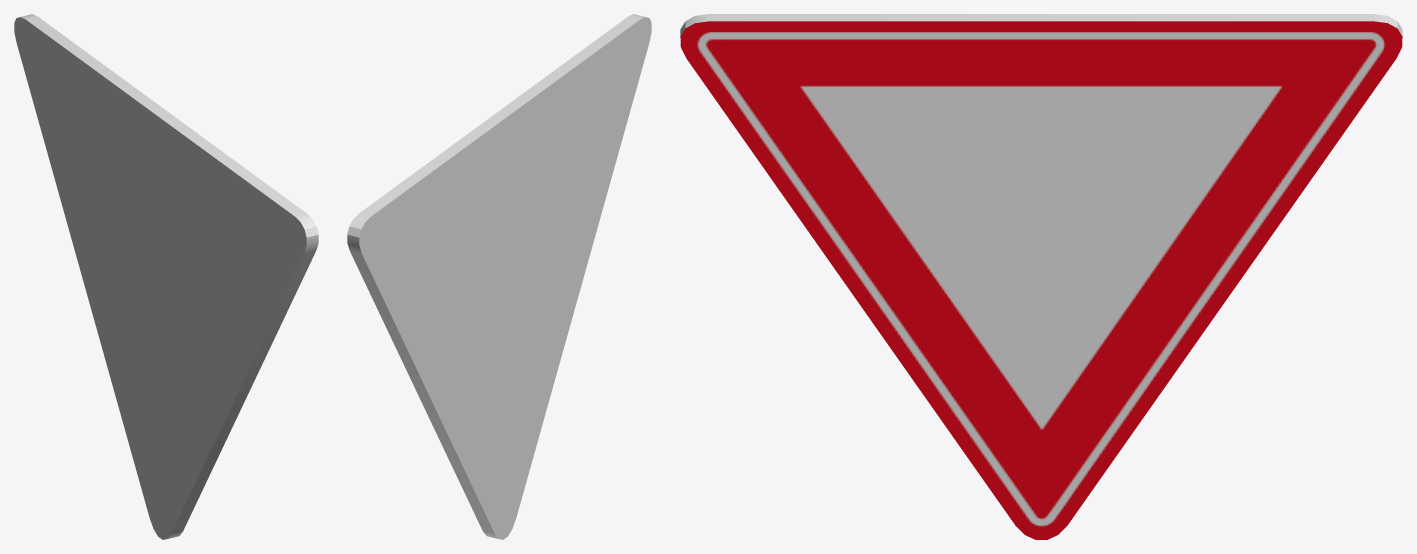
File: Road_Sign_3.fbx
The picture shows the model from 3 angles, left to right: view 1: azimuth 30°, elevation 25°; view 2: azimuth 150°, elevation 25°; view 3: azimuth 270°, elevation 25°; orthographic projection. The views are drawn at different scales.
Parts seen in each view (by area): view 1: Road_Sign_3; view 2: Road_Sign_3; view 3: Road_Sign_3.
Boxes of the visible parts, box(x1,y1,x2,y2) form: Road_Sign_3: box(14, 14, 318, 539); Road_Sign_3: box(347, 14, 651, 539); Road_Sign_3: box(680, 14, 1402, 539).
Size of the model in its own units: 3 by 98.96 by 125.
